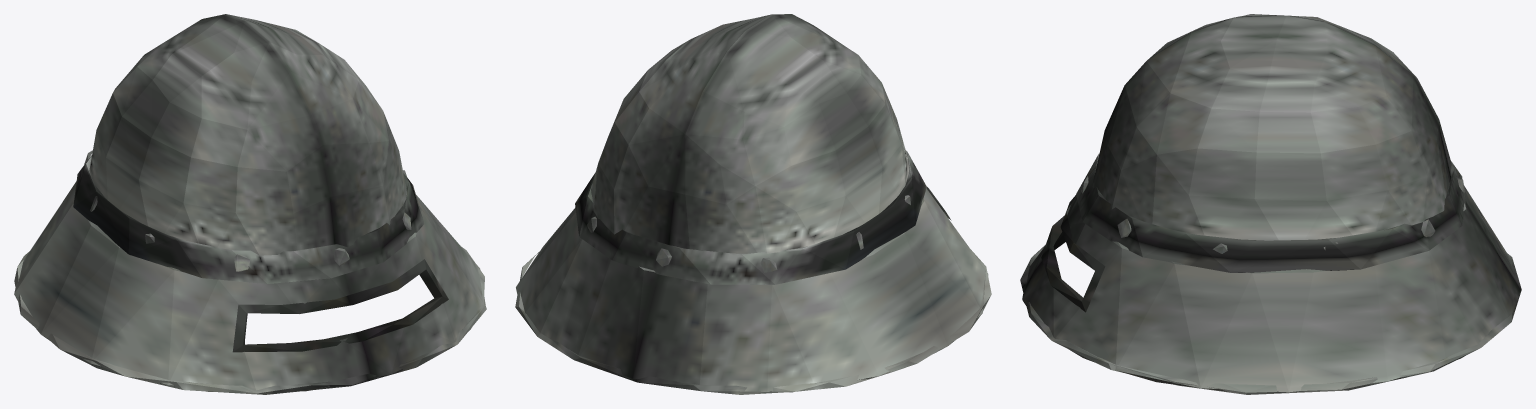
Rendered from helm6.glb.
3 views of the same model, side by side, from view 1: azimuth 30°, elevation 25°; view 2: azimuth 150°, elevation 25°; view 3: azimuth 270°, elevation 25° (orthographic). The views are drawn at different scales.
Parts seen in each view (by area): view 1: zengin; view 2: zengin; view 3: zengin.
Part boxes in pixels (x1,y1,x2,y2): zengin: (14, 14, 486, 394); zengin: (515, 14, 991, 394); zengin: (1020, 14, 1521, 394).
Size of the model in its own units: 0.329 by 0.2078 by 0.3388.
1 material, 1 textured.
